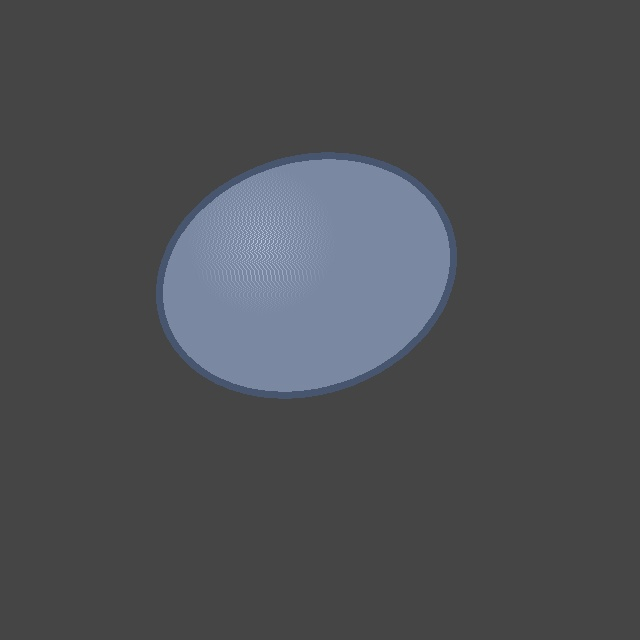lens: (159, 156, 453, 394)
